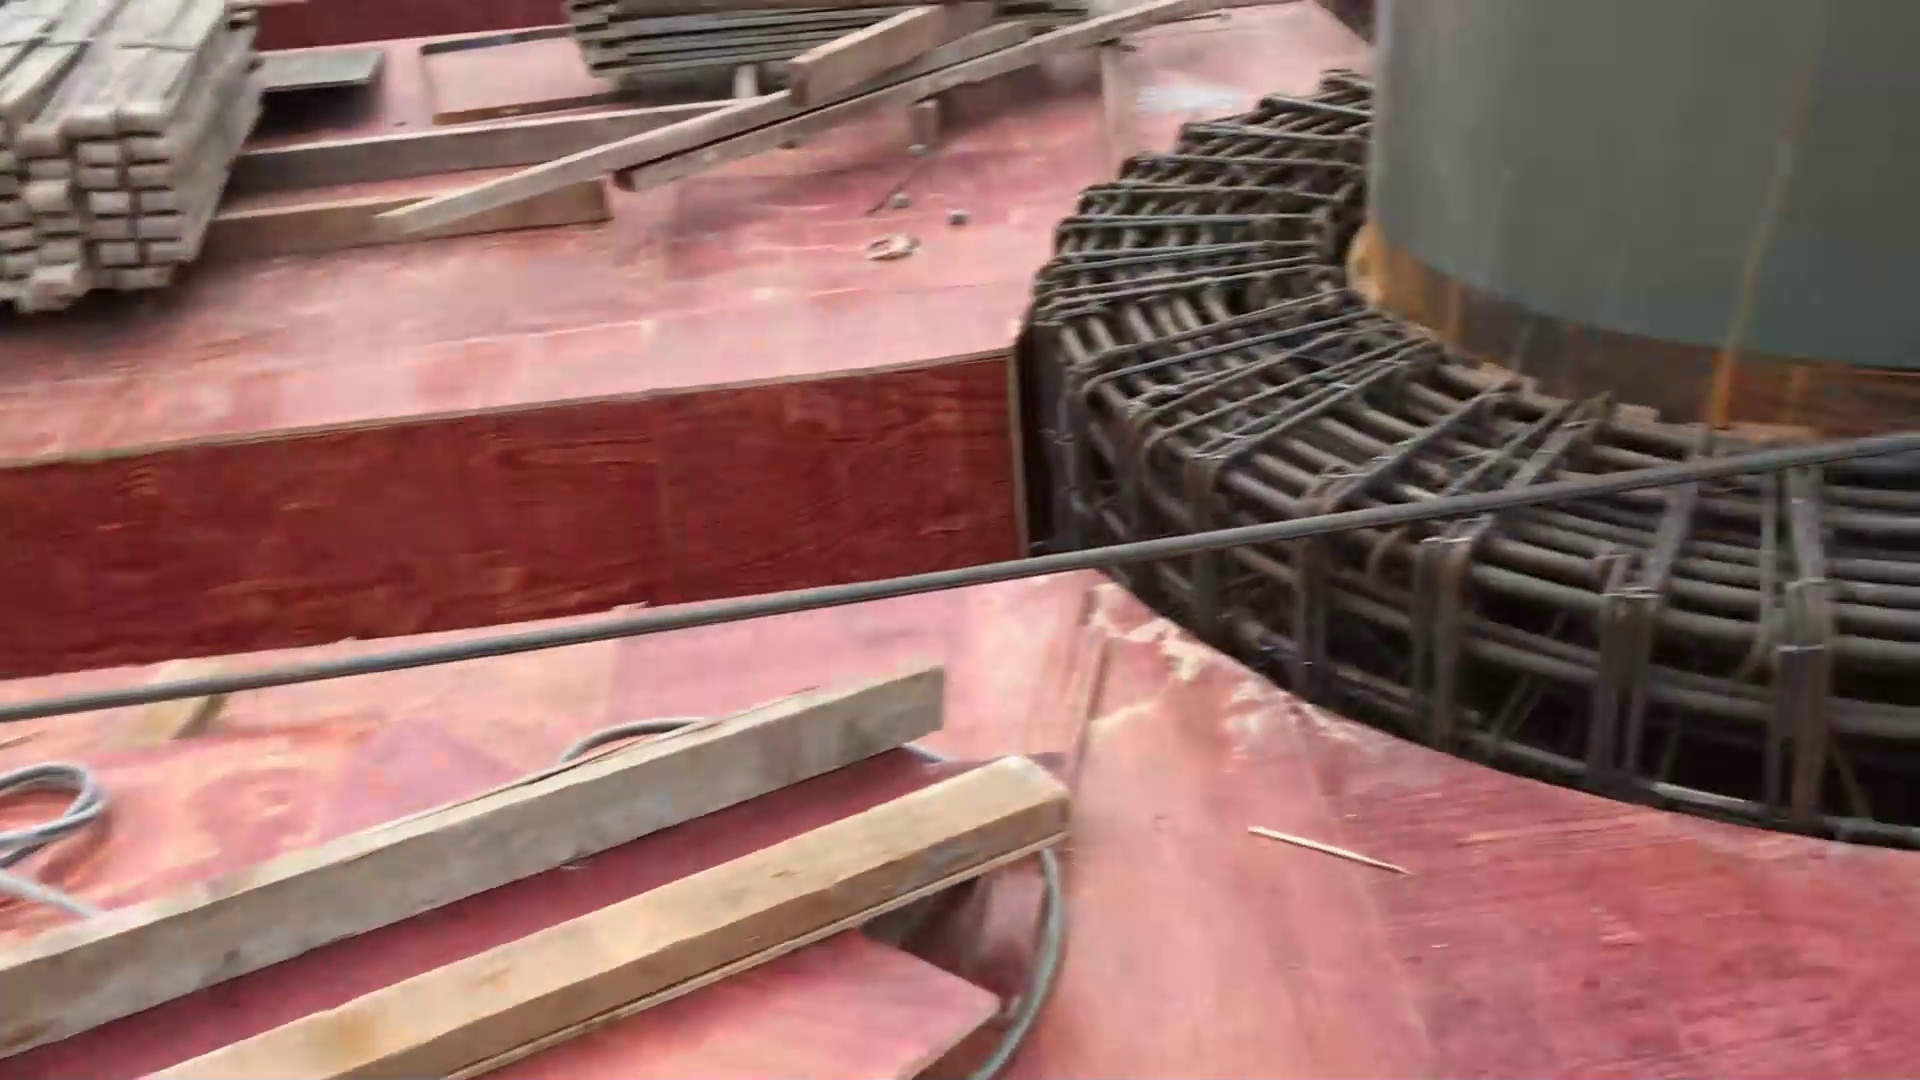wood: (1, 62, 272, 299)
